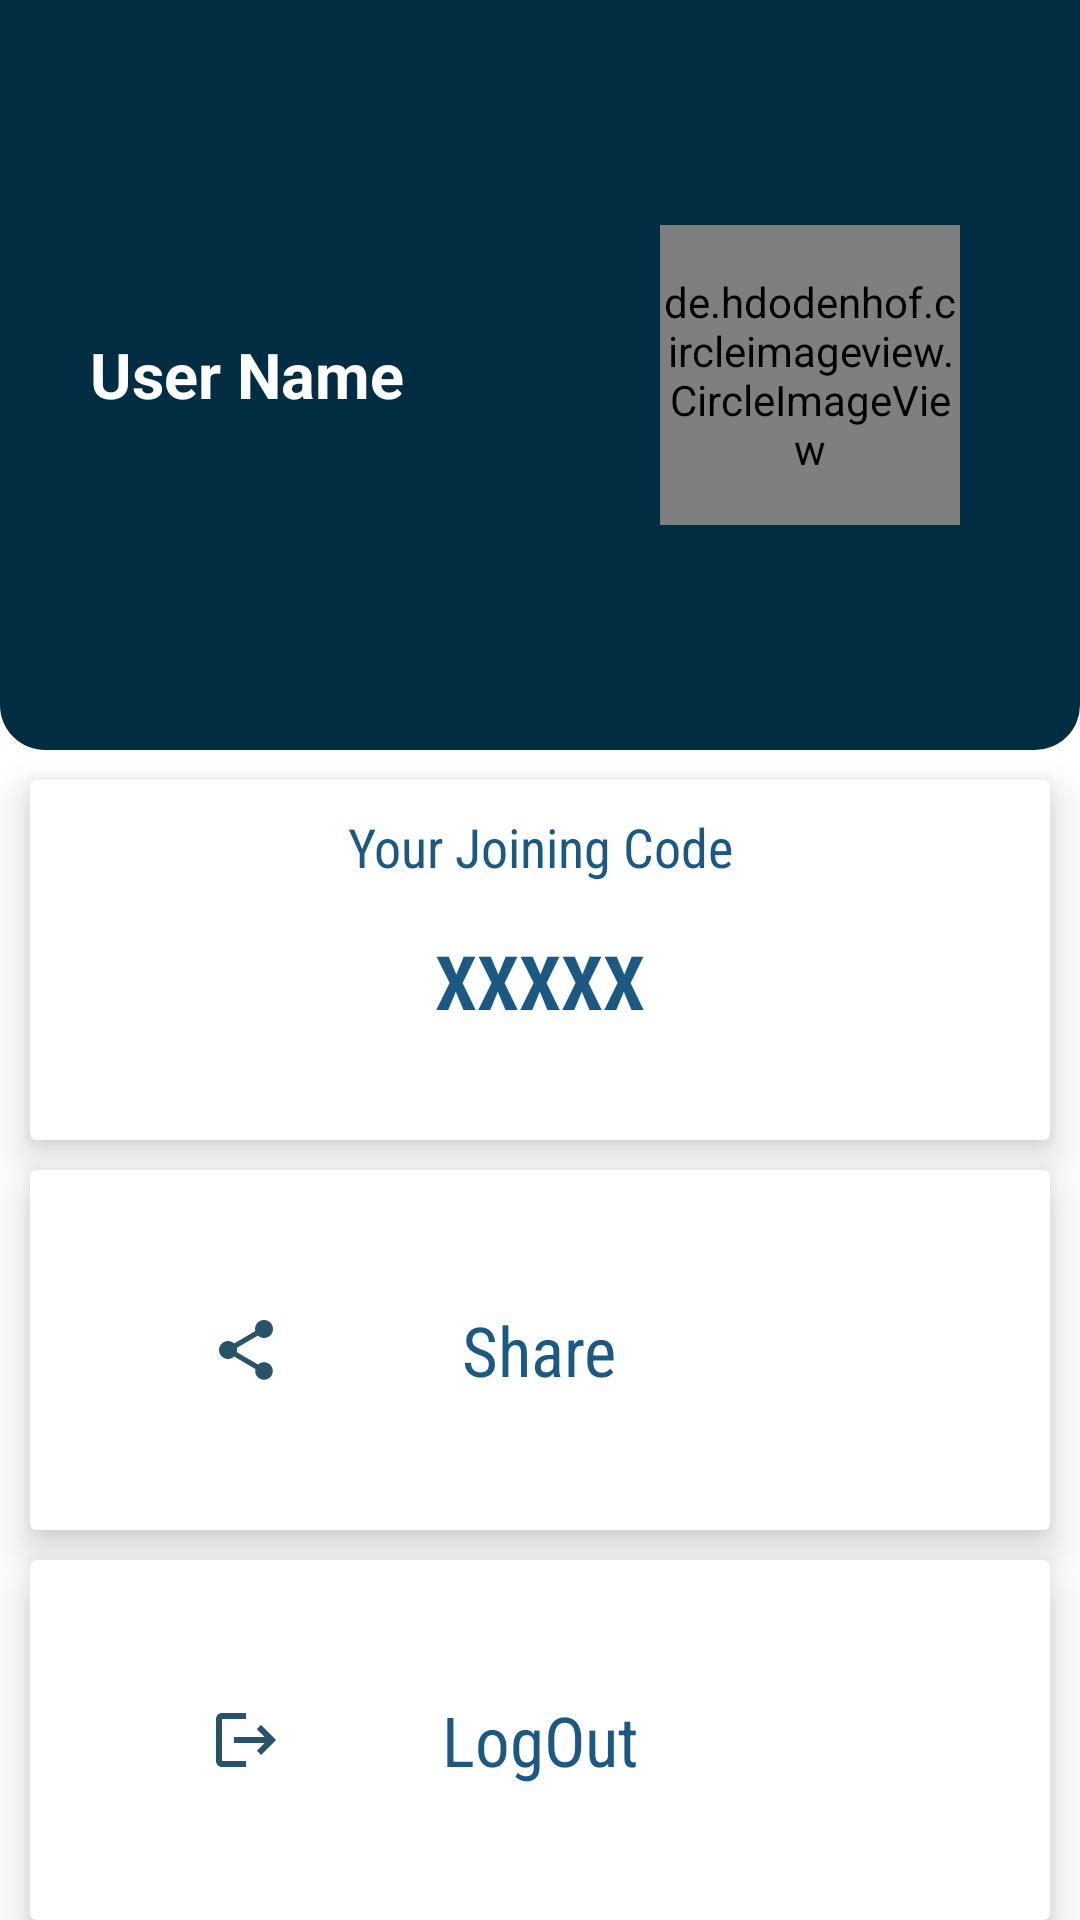

Where icons sit on this 1080x1920 app screen, as (x1, y1, x2, y2):
share: (219, 1320, 273, 1380)
